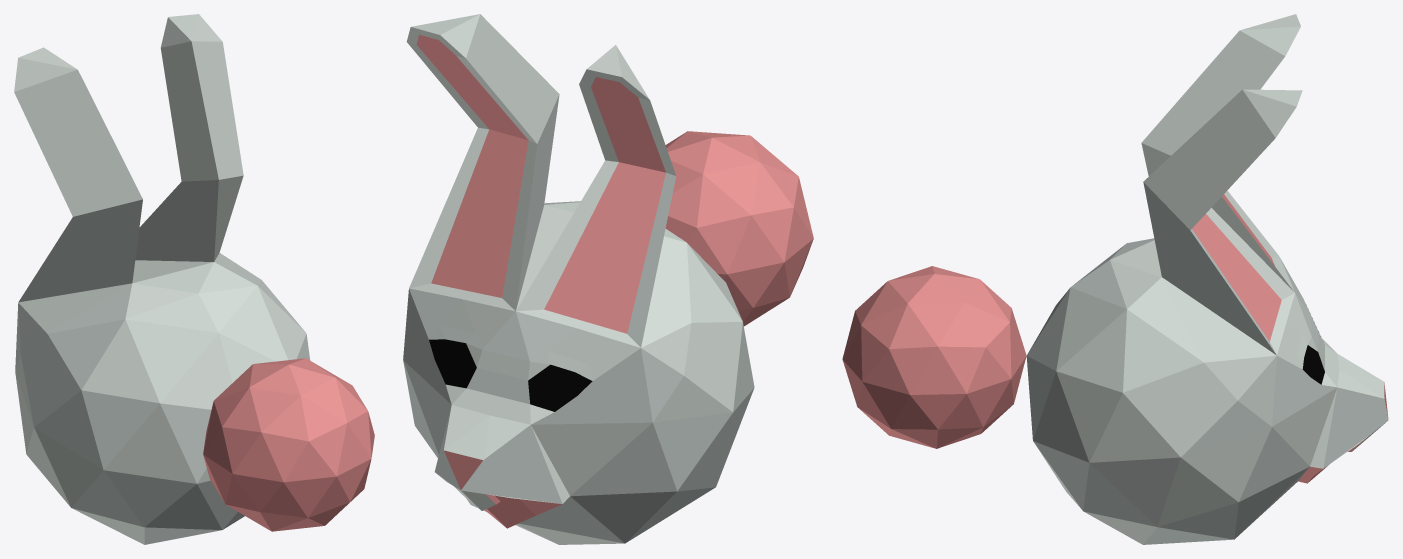
Rendered from Bunny.glb.
3 renders of one model, left to right at view 1: azimuth 30°, elevation 25°; view 2: azimuth 150°, elevation 25°; view 3: azimuth 270°, elevation 25°, orthographic. The views are drawn at different scales.
Visible parts, largest first — view 1: Bunny; view 2: Bunny; view 3: Bunny.
Boxes of the visible parts, x1=… form: Bunny: x1=14, y1=14, x2=374, y2=544; Bunny: x1=403, y1=14, x2=813, y2=544; Bunny: x1=842, y1=14, x2=1388, y2=544.
Bounding box in the file's own units: 1.89 × 3.1 × 3.25.
